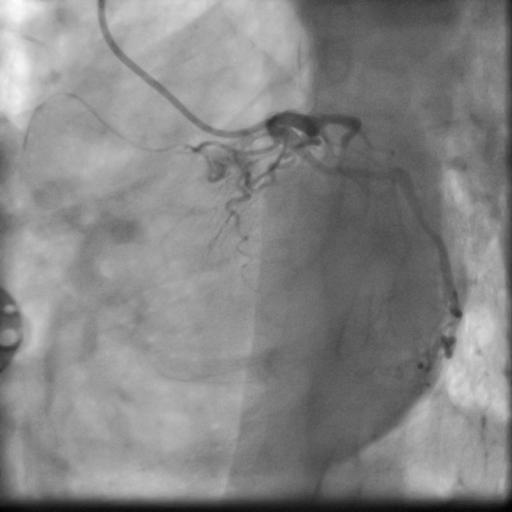Stenosis: (411, 204, 435, 240)
